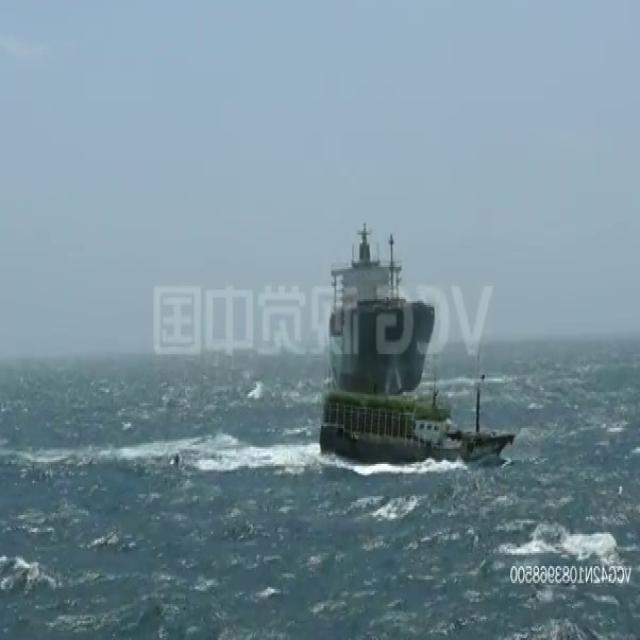cargoship: (324, 221, 434, 387)
fishing boat: (320, 371, 515, 470)
